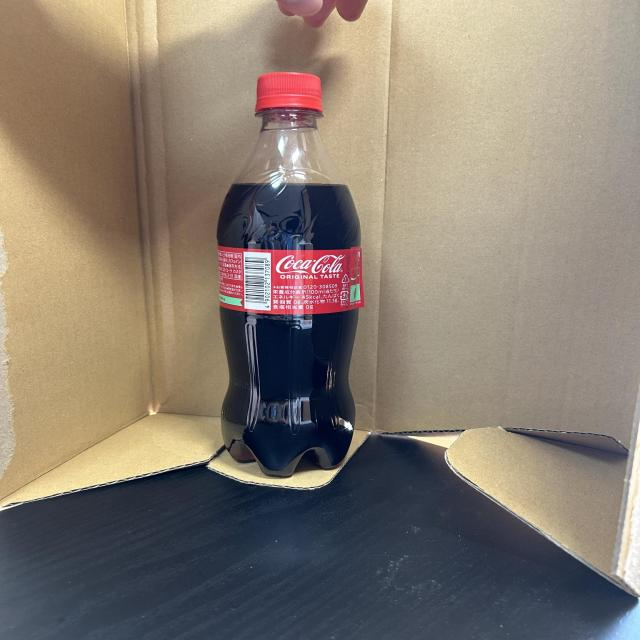high: (218, 72, 365, 477)
